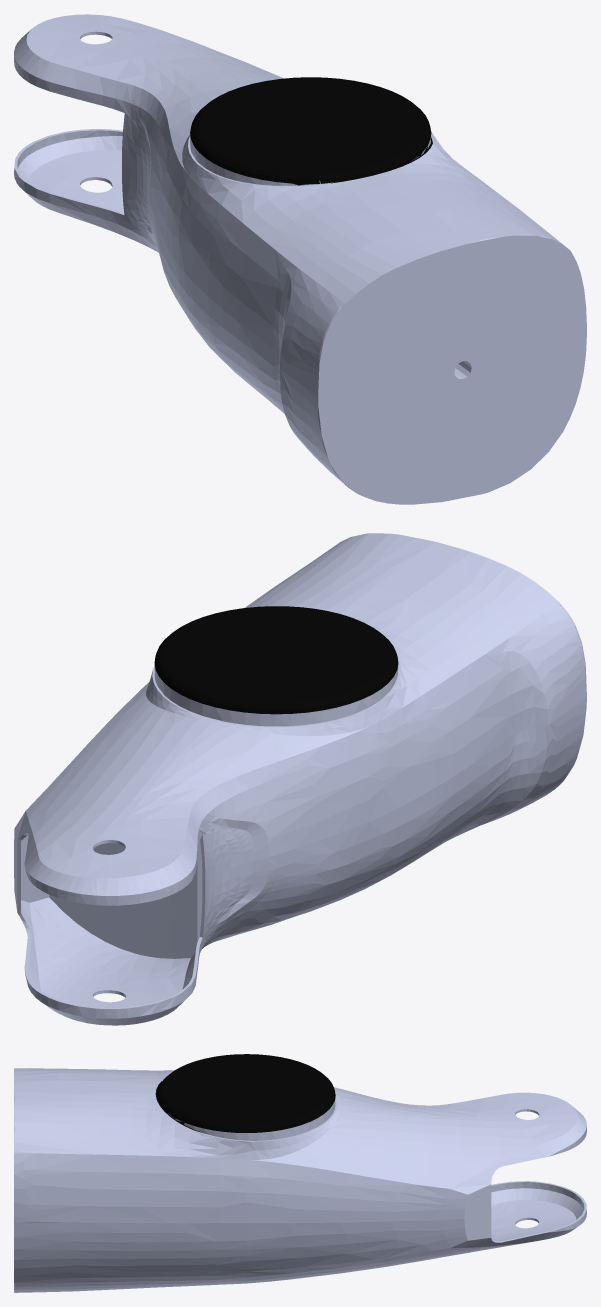
Rendered from right_hip_yaw_link.dae.
3 renders of one model, top to bottom at view 1: azimuth 30°, elevation 25°; view 2: azimuth 150°, elevation 25°; view 3: azimuth 270°, elevation 25°, orthographic. The views are drawn at different scales.
Visible parts, largest first — view 1: right_hip_yaw_link; view 2: right_hip_yaw_link; view 3: right_hip_yaw_link.
Boxes of the visible parts, x1,y1,x2,y2 form: right_hip_yaw_link: [14, 14, 586, 504]; right_hip_yaw_link: [14, 533, 586, 1025]; right_hip_yaw_link: [14, 1054, 586, 1292].
Size of the model in its own units: 0.1451 by 0.1298 by 0.3544.
